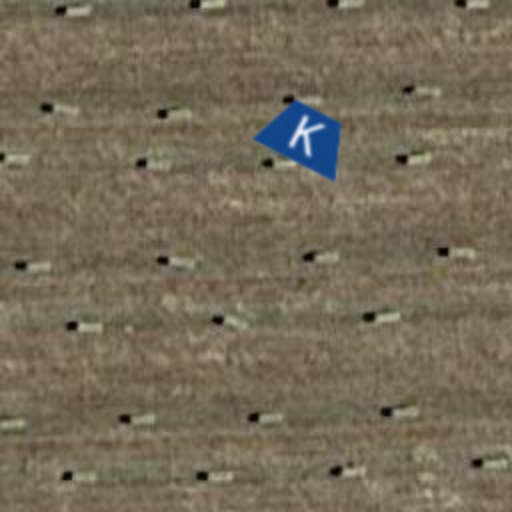trapezoid: (242, 72, 370, 200)
